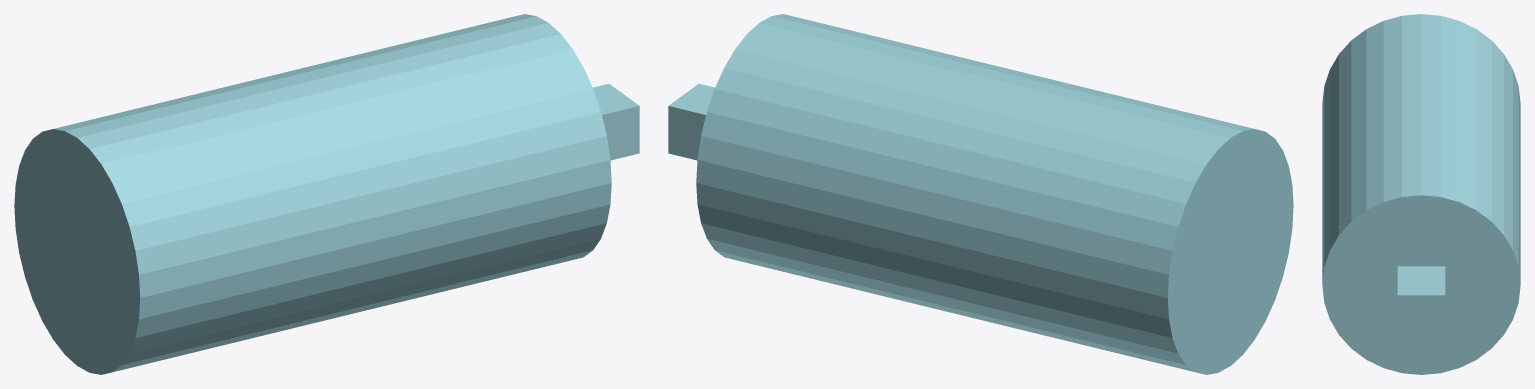
File: cylinder_marker_v4012.obj
The picture shows the model from 3 angles, left to right: view 1: azimuth 30°, elevation 25°; view 2: azimuth 150°, elevation 25°; view 3: azimuth 270°, elevation 25°; orthographic projection. The views are drawn at different scales.
Bounding box in the file's own units: 0.0905 × 0.0361 × 0.0361.
1 material, 1 textured.
